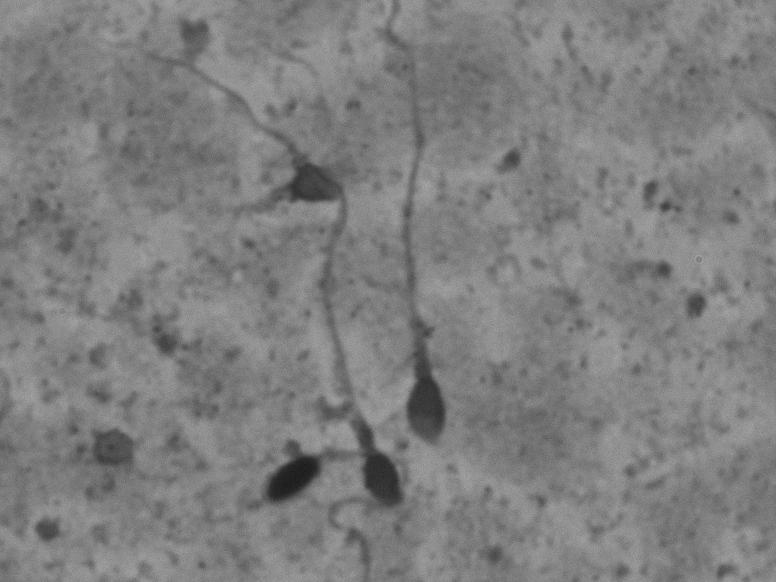Abnormal: (98, 24, 413, 535), (368, 44, 462, 467)
